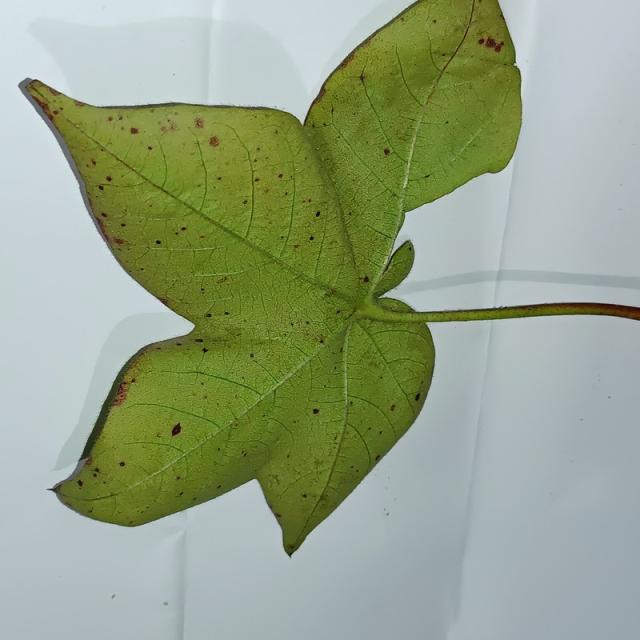Bacterial_Blight: (162, 415, 187, 443), (111, 379, 131, 408), (202, 132, 231, 151), (160, 120, 178, 134), (267, 474, 280, 486), (485, 37, 496, 48), (151, 239, 164, 247), (194, 118, 204, 128), (313, 459, 322, 469), (113, 237, 124, 245), (358, 72, 366, 82), (158, 298, 168, 305), (383, 148, 391, 156), (240, 198, 249, 205), (130, 127, 139, 134), (201, 347, 209, 354), (494, 44, 501, 52), (288, 544, 296, 551), (363, 276, 370, 283), (415, 393, 421, 401), (195, 338, 204, 343), (100, 212, 107, 218), (77, 480, 83, 487), (52, 109, 59, 115), (85, 459, 92, 465), (274, 512, 281, 518), (383, 509, 389, 516), (106, 176, 112, 182), (98, 185, 104, 191), (119, 461, 125, 467), (315, 211, 321, 217), (313, 408, 319, 414), (478, 39, 484, 45), (293, 244, 300, 249), (375, 454, 380, 461), (390, 405, 395, 412), (205, 313, 212, 318), (254, 177, 260, 182), (278, 173, 283, 179), (318, 338, 324, 343), (91, 159, 96, 165), (130, 378, 136, 383), (107, 116, 113, 121), (224, 311, 230, 316), (400, 16, 405, 22), (336, 310, 342, 315), (499, 41, 504, 47), (111, 594, 116, 600), (199, 235, 206, 239), (249, 353, 254, 358), (181, 226, 186, 231), (309, 236, 314, 241), (140, 267, 145, 272), (200, 287, 205, 292), (179, 491, 184, 496), (305, 320, 310, 325), (513, 62, 518, 67), (120, 223, 126, 227), (176, 342, 182, 346), (424, 174, 430, 178), (217, 176, 222, 180), (148, 146, 153, 150), (302, 494, 307, 498), (93, 472, 97, 477), (441, 52, 446, 56), (216, 485, 221, 489), (379, 430, 383, 435), (433, 19, 437, 24), (408, 246, 412, 251), (163, 602, 168, 606), (176, 476, 180, 480), (175, 231, 179, 235), (445, 120, 449, 124), (608, 395, 612, 399), (618, 207, 622, 211), (580, 418, 584, 421), (172, 73, 175, 76)
Cotton: (21, 0, 639, 554)
